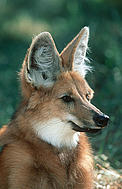LoboGuara: (15, 23, 111, 183)
